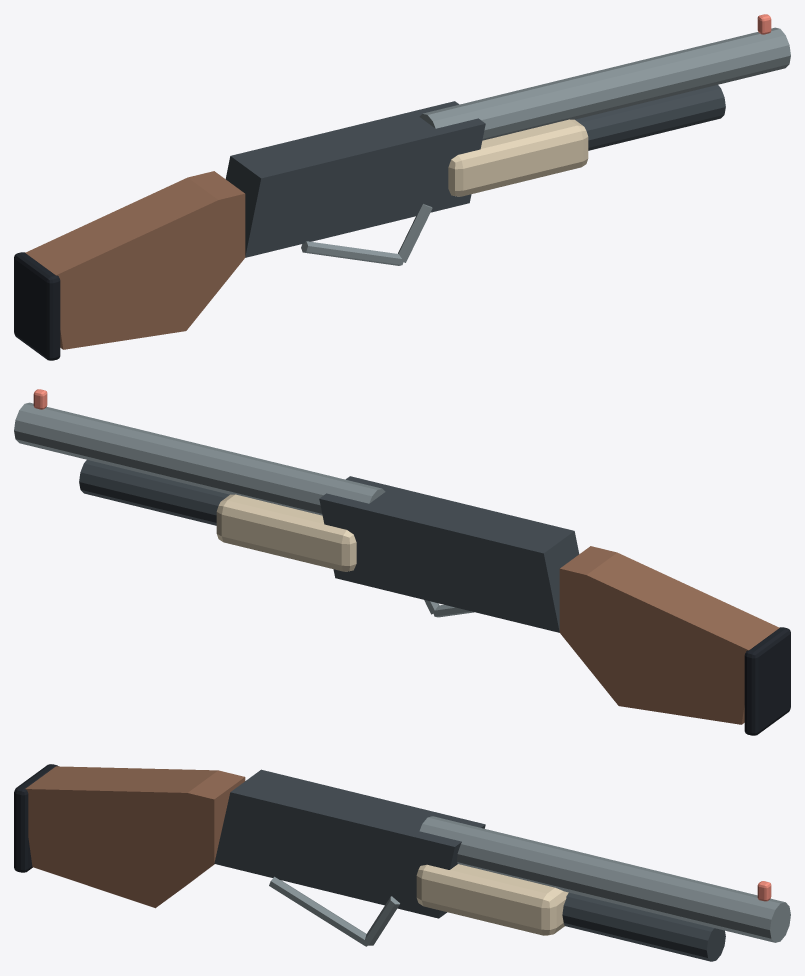
The model's file is Shotgun.fbx.
3 renders of one model, top to bottom at view 1: azimuth 30°, elevation 25°; view 2: azimuth 150°, elevation 25°; view 3: azimuth 330°, elevation 25°, orthographic.
Visible parts, largest first — view 1: Shotgun; view 2: Shotgun; view 3: Shotgun.
Boxes of the visible parts, x1=… form: Shotgun: x1=14, y1=14, x2=790, y2=360; Shotgun: x1=14, y1=389, x2=790, y2=735; Shotgun: x1=14, y1=764, x2=790, y2=961.
Bounding box in the file's own units: 140 × 28.45 × 13.5.
